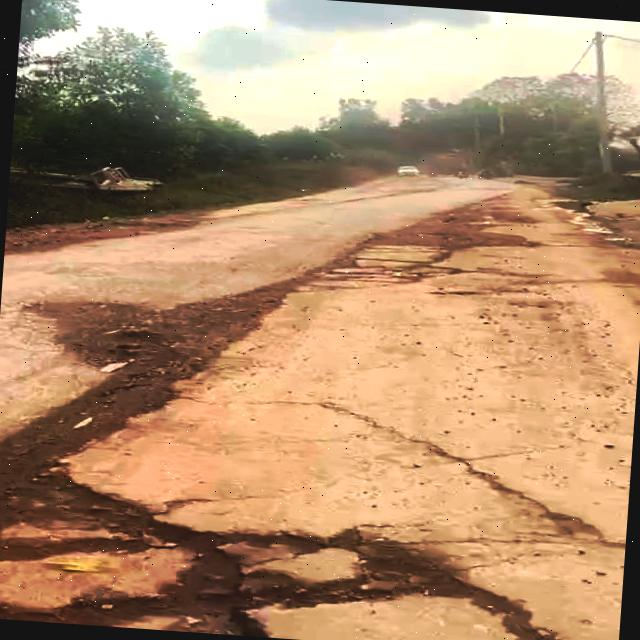pothole: (0, 481, 626, 640), (15, 310, 254, 479)
